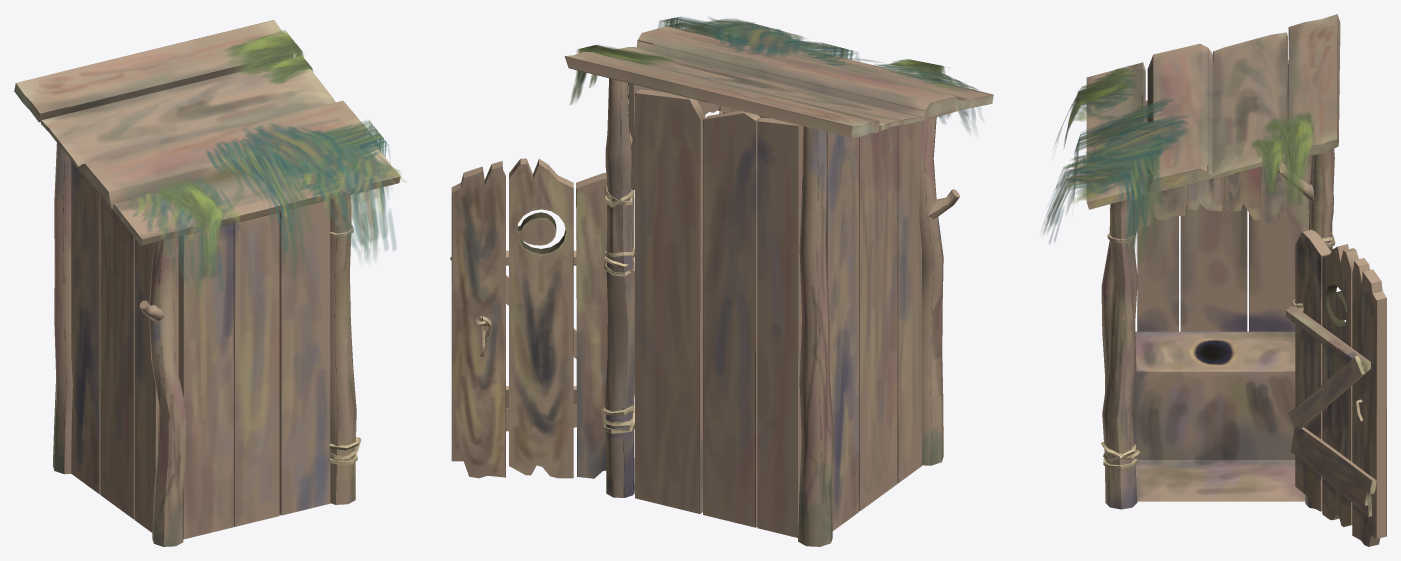
File: toilet.glb
3 views of the same model, side by side, from view 1: azimuth 30°, elevation 25°; view 2: azimuth 150°, elevation 25°; view 3: azimuth 270°, elevation 25° (orthographic). The views are drawn at different scales.
Visible parts, largest first — view 1: Plane, Plane.002, Plane.001, Plane.016; view 2: Plane, Plane.002, Plane.001; view 3: Plane, Plane.002, Plane.001, Plane.016.
Part boxes in pixels (x1,y1,x2,y2): Plane: (14, 20, 400, 546); Plane.002: (129, 120, 406, 297); Plane.001: (224, 30, 313, 83); Plane.016: (156, 178, 225, 278); Plane: (450, 26, 993, 546); Plane.002: (658, 16, 981, 131); Plane.001: (569, 45, 676, 104); Plane: (1086, 14, 1386, 546); Plane.002: (1043, 65, 1188, 267); Plane.001: (1251, 111, 1315, 206); Plane.016: (1064, 67, 1134, 147).
Size of the model in its own units: 8.34 by 8.71 by 7.18.
Materials: 3 (3 with a texture image).
